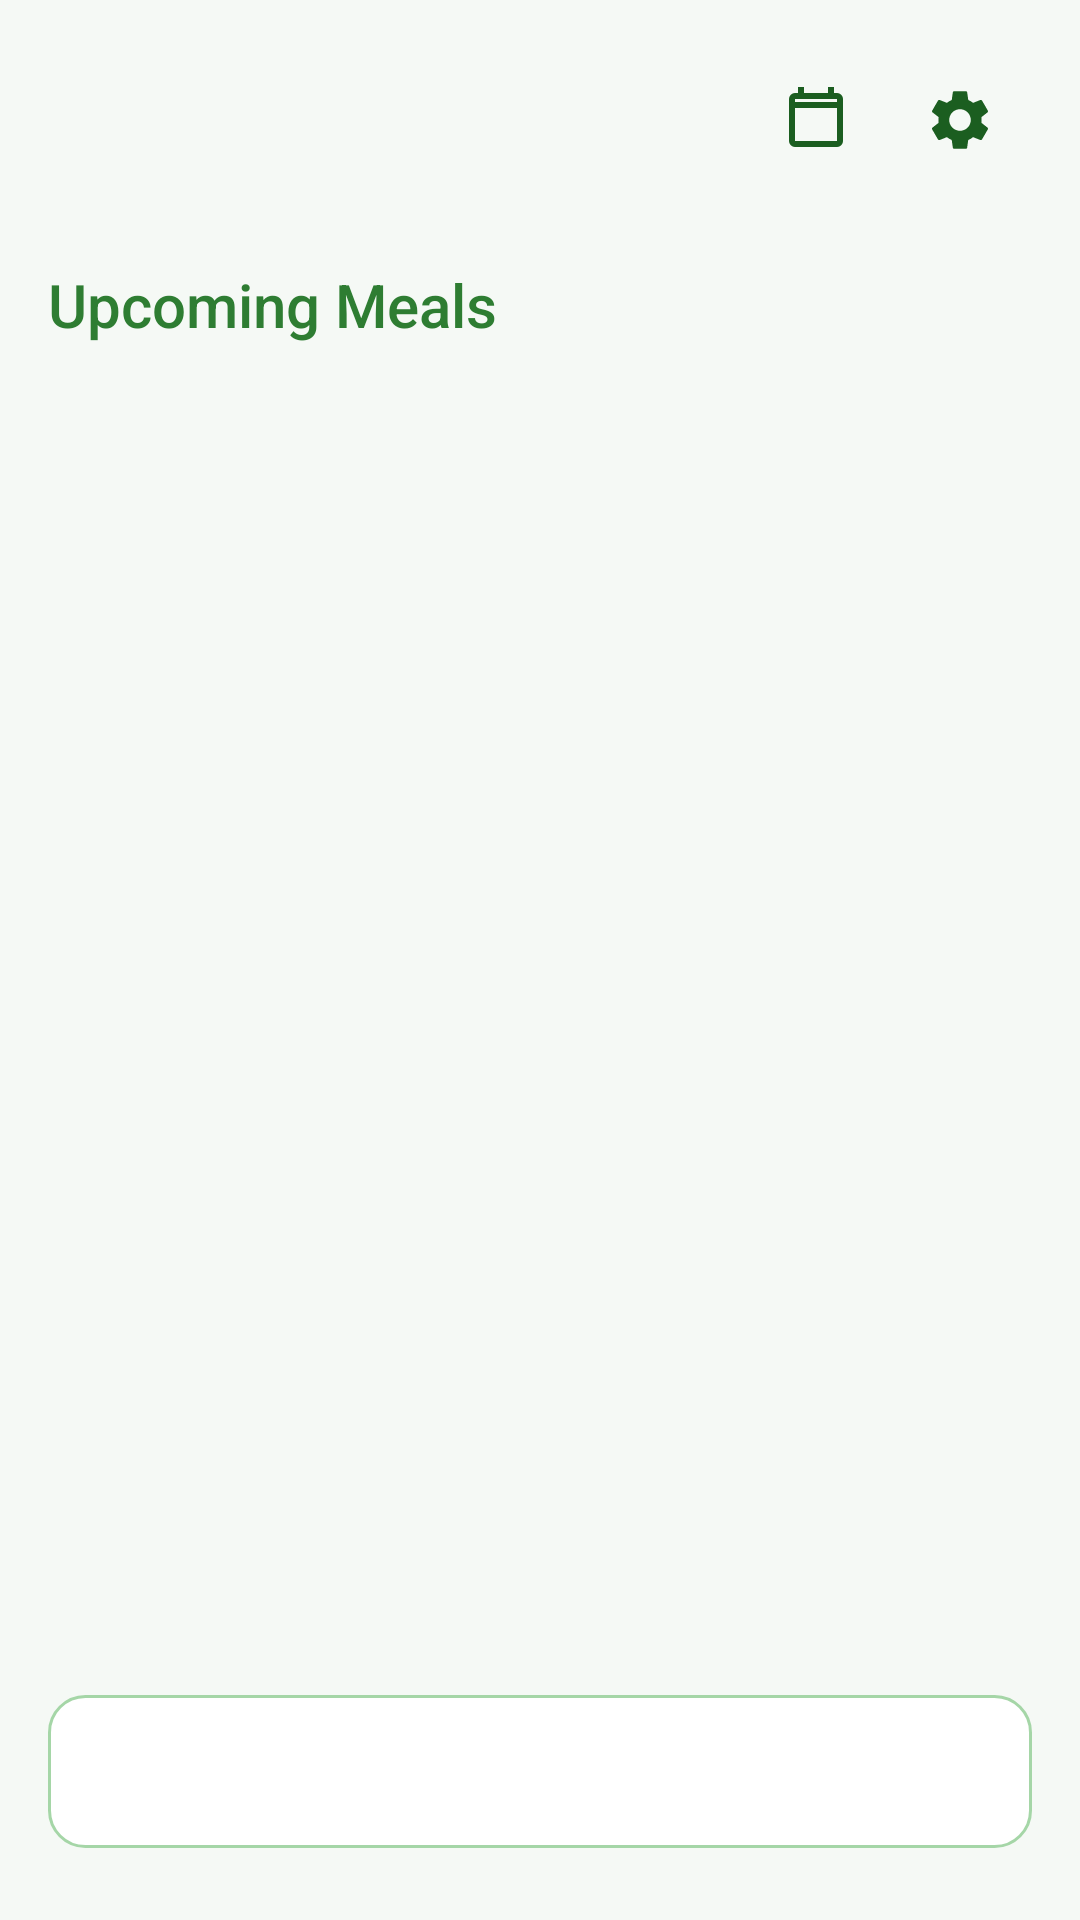

Where icons sit on this 1080 × 1920 app screen, as (left=x1, top=y1, right=x2, bottom=y2):
Select Date: (left=789, top=87, right=843, bottom=147)
Settings: (left=932, top=91, right=988, bottom=149)
